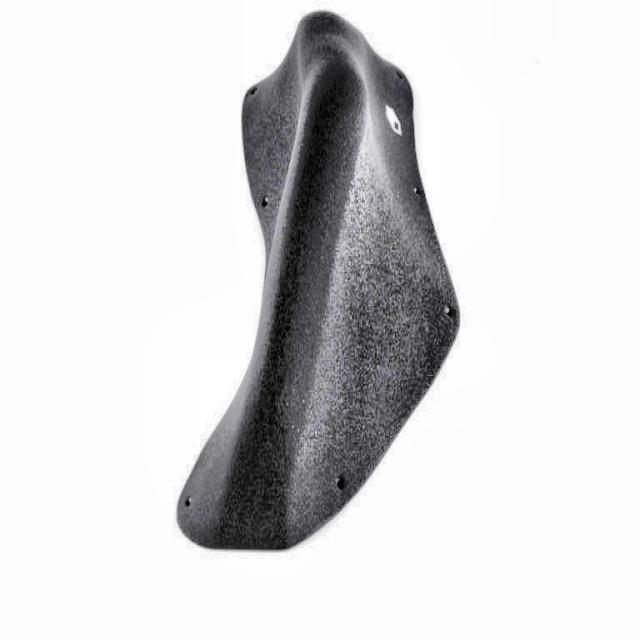Hold: (178, 8, 464, 556)
